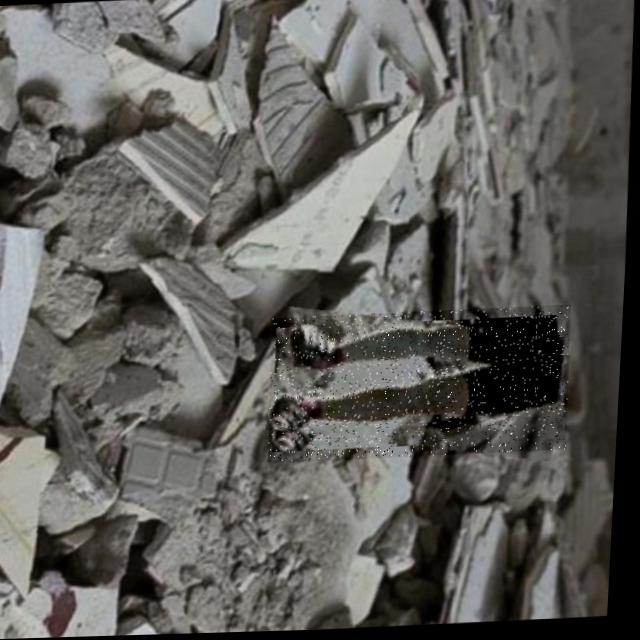Person in Rubble: (269, 308, 575, 465)
